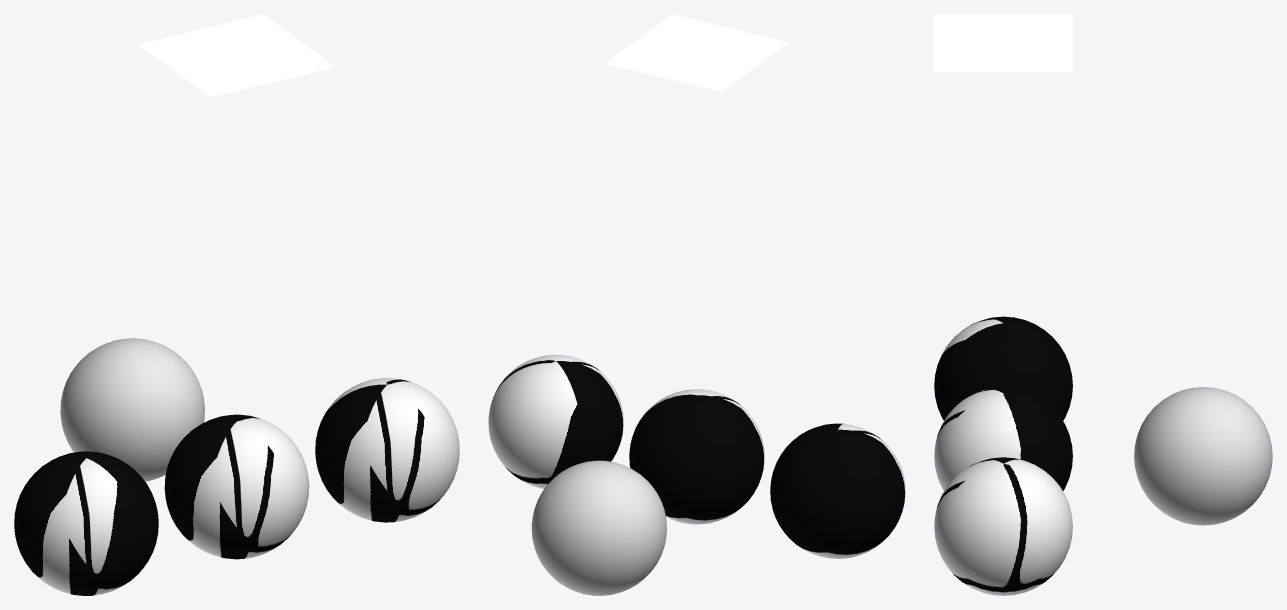
The model's file is balltest.gltf.
The picture shows the model from 3 angles, left to right: view 1: azimuth 30°, elevation 25°; view 2: azimuth 150°, elevation 25°; view 3: azimuth 270°, elevation 25°; orthographic projection. The views are drawn at different scales.
Visible parts, largest first — view 1: Icosphere, Icosphere.002, Icosphere.001, Icosphere.003, Plane; view 2: Icosphere, Icosphere.003, Icosphere.001, Icosphere.002, Plane; view 3: Icosphere.002, Icosphere.003, Icosphere, Icosphere.001, Plane.
Part boxes in pixels (bbox=[...]): Icosphere: bbox=[14, 451, 158, 595]; Icosphere.002: bbox=[315, 378, 459, 522]; Icosphere.001: bbox=[164, 414, 309, 559]; Icosphere.003: bbox=[60, 338, 204, 481]; Plane: bbox=[138, 14, 335, 97]; Icosphere: bbox=[770, 423, 905, 558]; Icosphere.003: bbox=[531, 460, 666, 595]; Icosphere.001: bbox=[629, 389, 764, 524]; Icosphere.002: bbox=[488, 354, 623, 488]; Plane: bbox=[605, 14, 788, 92]; Icosphere.002: bbox=[934, 457, 1072, 595]; Icosphere.003: bbox=[1134, 387, 1272, 525]; Icosphere: bbox=[934, 316, 1072, 420]; Icosphere.001: bbox=[934, 387, 1072, 490]; Plane: bbox=[934, 14, 1072, 72].
Size of the model in its own units: 6.8 by 7.57 by 4.88.
Materials: 5 (3 with a texture image).
